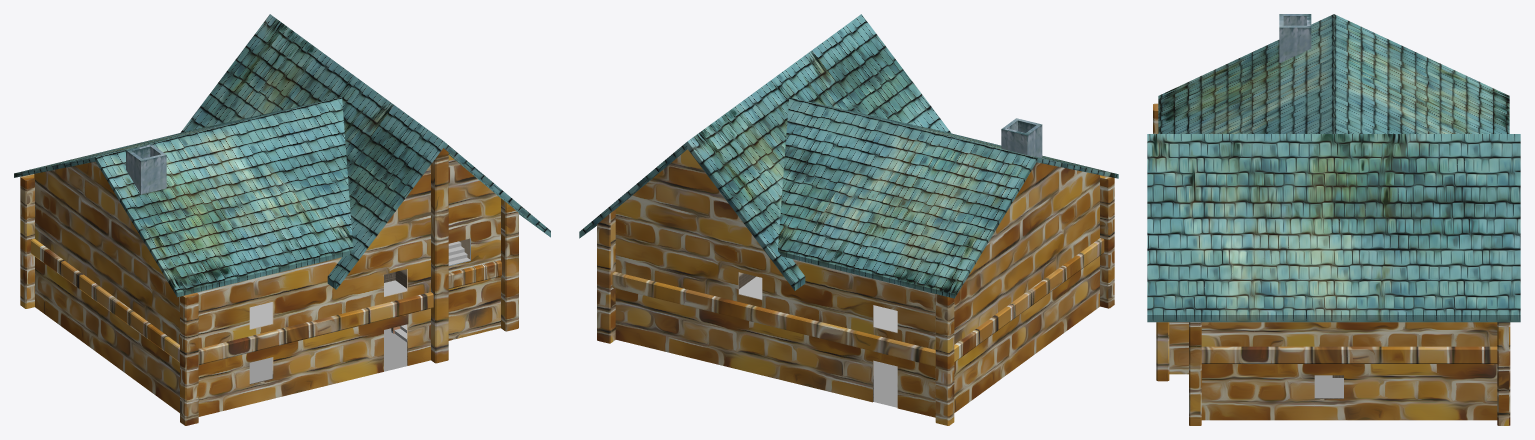
File: House__Miller.fbx
3 renders of one model, left to right at view 1: azimuth 30°, elevation 25°; view 2: azimuth 150°, elevation 25°; view 3: azimuth 270°, elevation 25°, orthographic. The views are drawn at different scales.
Visible parts, largest first — view 1: Roof, Wall_Front, Wall_Left, Roof2, Trave, Pillar5, Trave5, Pillar2, Pillar6, Pillar1, Canna_Fumaria, Floor (+4 smaller); view 2: Wall_Back, Roof1, Wall_Left, Roof2, Trave4, Trave5, Pillar1, Pillar7, Pillar2, Canna_Fumaria, Roof, Floor (+2 smaller); view 3: Roof3, Wall_Right, Roof1, Roof, Trave3, Pillar7, Canna_Fumaria, Pillar6, Wall_Front, Pillar5, Floor.
Boxes of the visible parts, x1=… form: Roof: x1=95, y1=97, x2=353, y2=297; Wall_Front: x1=197, y1=155, x2=500, y2=416; Wall_Left: x1=34, y1=161, x2=179, y2=412; Roof2: x1=180, y1=14, x2=443, y2=289; Trave: x1=198, y1=292, x2=433, y2=364; Pillar5: x1=431, y1=148, x2=448, y2=363; Trave5: x1=31, y1=239, x2=179, y2=362; Pillar2: x1=180, y1=292, x2=198, y2=425; Pillar6: x1=501, y1=198, x2=518, y2=331; Pillar1: x1=20, y1=174, x2=34, y2=308; Canna_Fumaria: x1=126, y1=144, x2=166, y2=194; Floor: x1=249, y1=328, x2=407, y2=383; Wall_Back: x1=615, y1=149, x2=935, y2=417; Roof1: x1=778, y1=97, x2=1036, y2=298; Wall_Left: x1=954, y1=162, x2=1099, y2=412; Roof2: x1=687, y1=14, x2=950, y2=290; Trave4: x1=612, y1=272, x2=935, y2=366; Trave5: x1=954, y1=238, x2=1104, y2=362; Pillar1: x1=935, y1=294, x2=954, y2=425; Pillar7: x1=597, y1=209, x2=615, y2=343; Pillar2: x1=1100, y1=175, x2=1114, y2=308; Canna_Fumaria: x1=1001, y1=118, x2=1042, y2=157; Roof: x1=793, y1=98, x2=1118, y2=178; Floor: x1=873, y1=361, x2=897, y2=407; Roof3: x1=1147, y1=134, x2=1520, y2=322; Wall_Right: x1=1201, y1=322, x2=1497, y2=420; Roof1: x1=1334, y1=14, x2=1509, y2=133; Roof: x1=1158, y1=14, x2=1333, y2=133; Trave3: x1=1201, y1=346, x2=1497, y2=363; Pillar7: x1=1497, y1=322, x2=1510, y2=425; Canna_Fumaria: x1=1279, y1=14, x2=1311, y2=63; Pillar6: x1=1189, y1=322, x2=1201, y2=425; Wall_Front: x1=1169, y1=322, x2=1188, y2=374; Pillar5: x1=1156, y1=322, x2=1169, y2=381; Floor: x1=1314, y1=375, x2=1343, y2=398.
Size of the model in its own units: 2054 by 1198 by 1676.
